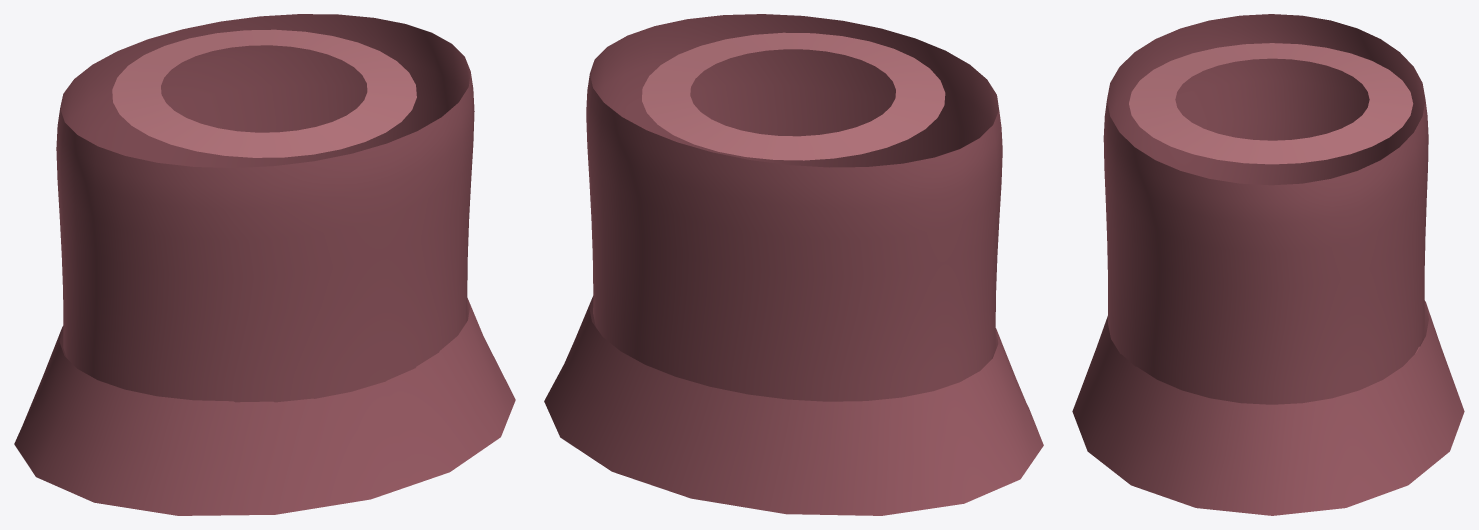
Rendered from armor_leather.glb.
The picture shows the model from 3 angles, left to right: view 1: azimuth 30°, elevation 25°; view 2: azimuth 150°, elevation 25°; view 3: azimuth 270°, elevation 25°; orthographic projection. The views are drawn at different scales.
Parts seen in each view (by area): view 1: armor_leather; view 2: armor_leather; view 3: armor_leather.
Part boxes in pixels (x1=…): armor_leather: x1=14, y1=14, x2=515, y2=515; armor_leather: x1=544, y1=14, x2=1043, y2=515; armor_leather: x1=1072, y1=14, x2=1464, y2=515.
Bounding box in the file's own units: 0.4368 × 0.304 × 0.3465.
